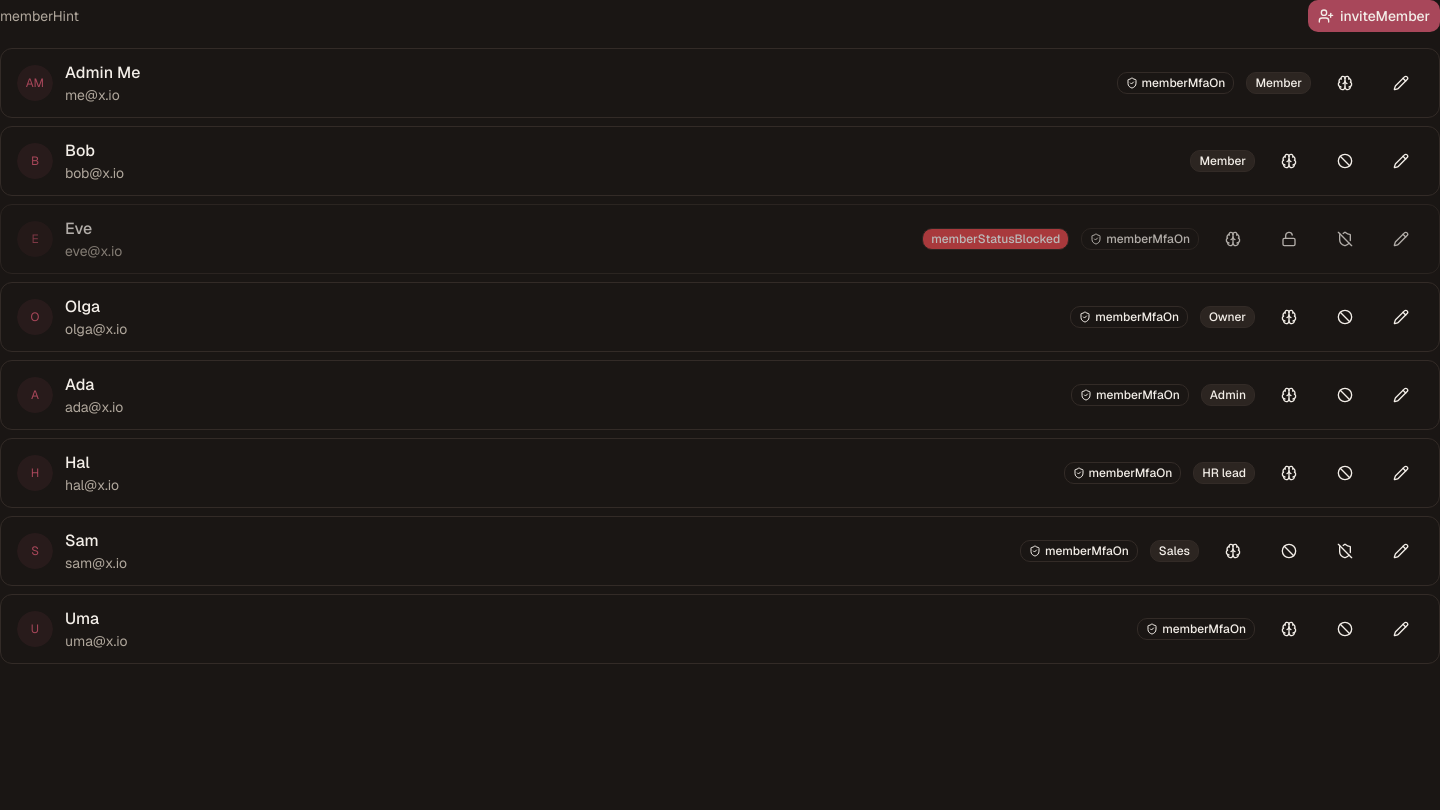
Scenario: MembersPanel › locks an Owner's role for a non-Owner caller
Click the button without text next to "Owner" at (1401,317), box [1379,295,1423,339]
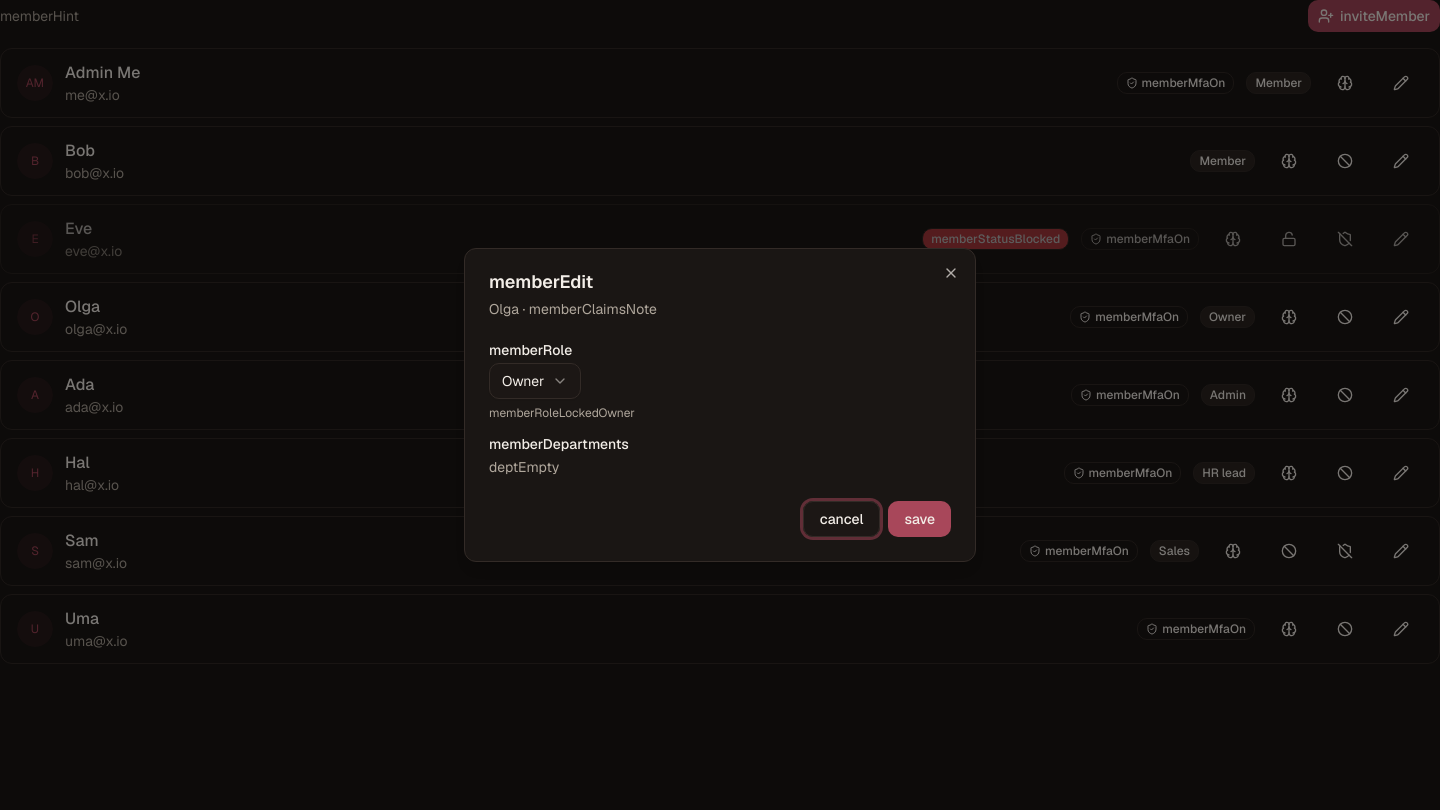
Result: the dropdown with test id "member-role-select" is disabled at [489,363,581,399]
Result: the text with test id "member-role-locked" reads "memberRoleLockedOwner" at [489,405,635,421]
